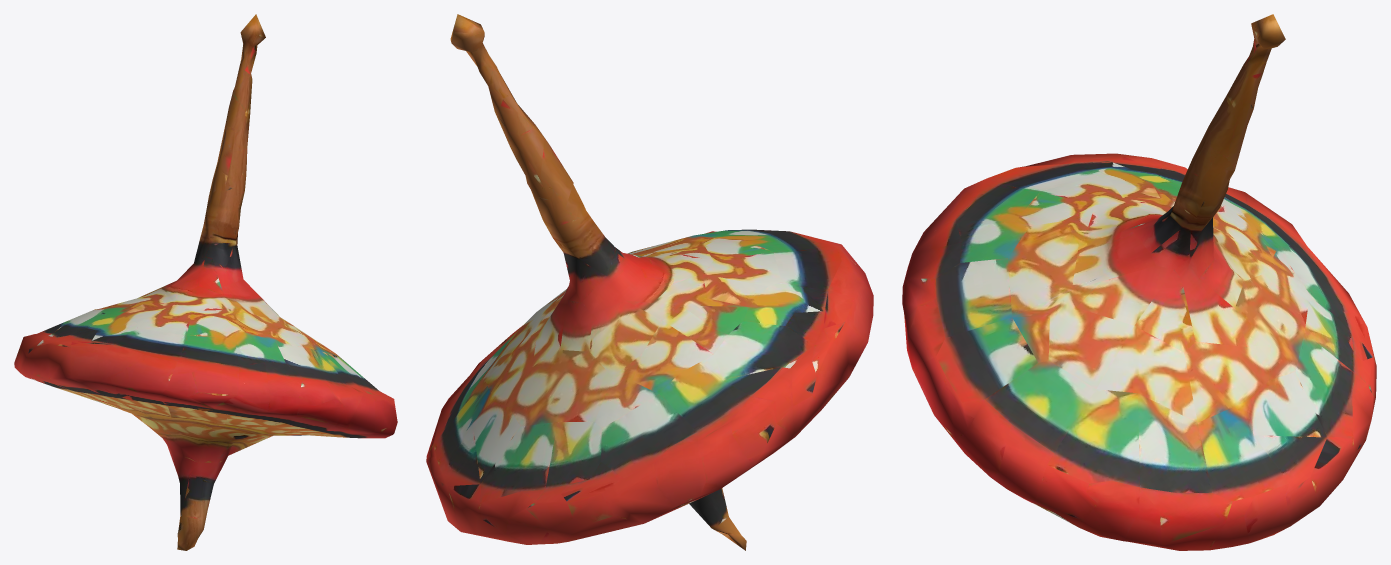
3 views of the same model, side by side, from view 1: azimuth 30°, elevation 25°; view 2: azimuth 150°, elevation 25°; view 3: azimuth 270°, elevation 25° (orthographic). The views are drawn at different scales.
Parts seen in each view (by area): view 1: Mesh_0; view 2: Mesh_0; view 3: Mesh_0.
Boxes of the visible parts, x1,y1,x2,y2 form: Mesh_0: [14, 14, 397, 550]; Mesh_0: [426, 14, 873, 550]; Mesh_0: [902, 14, 1376, 550].
Bounding box in the file's own units: 1.48 × 1.98 × 1.49.
1 material, 1 textured.
